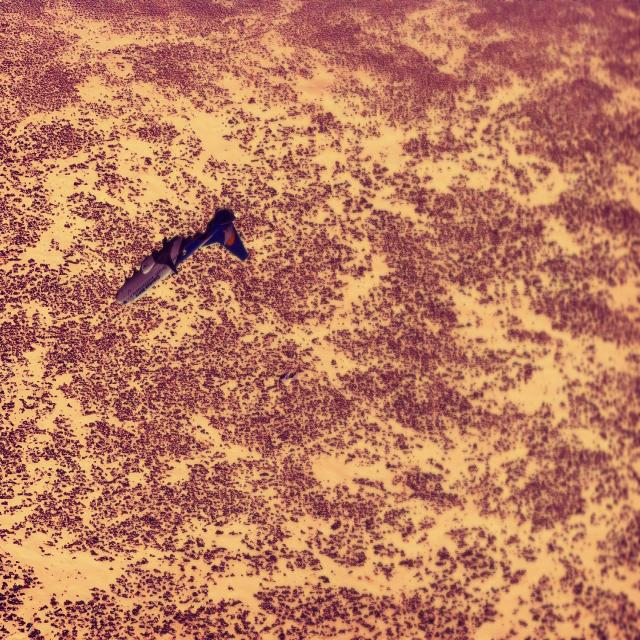airplane: (115, 206, 248, 306)
